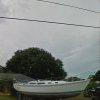Boat: (11, 69, 92, 100)
